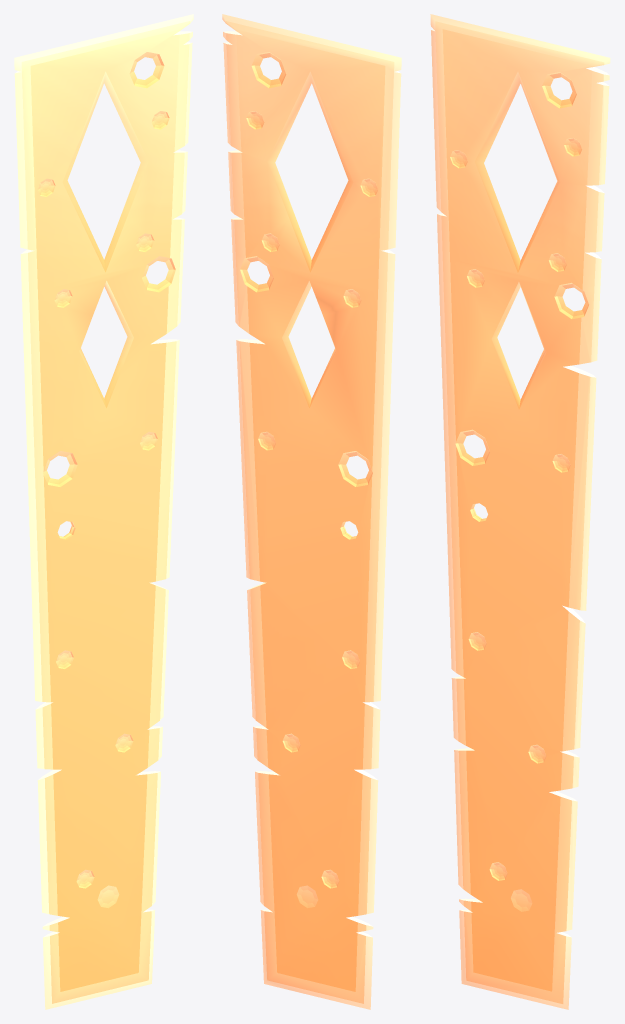
The model's file is wood_blade_bubbles_082.glb.
The picture shows the model from 3 angles, left to right: view 1: azimuth 30°, elevation 25°; view 2: azimuth 150°, elevation 25°; view 3: azimuth 330°, elevation 25°; orthographic projection.
Visible parts, largest first — view 1: wood_blade_bubbles.082; view 2: wood_blade_bubbles.082; view 3: wood_blade_bubbles.082.
Boxes of the visible parts, x1,y1,x2,y2 form: wood_blade_bubbles.082: [14, 14, 193, 1009]; wood_blade_bubbles.082: [222, 14, 401, 1009]; wood_blade_bubbles.082: [430, 14, 610, 1009].
Size of the model in its own units: 2.19 by 11.21 by 0.0882.
Materials: 1 (1 with a texture image).
